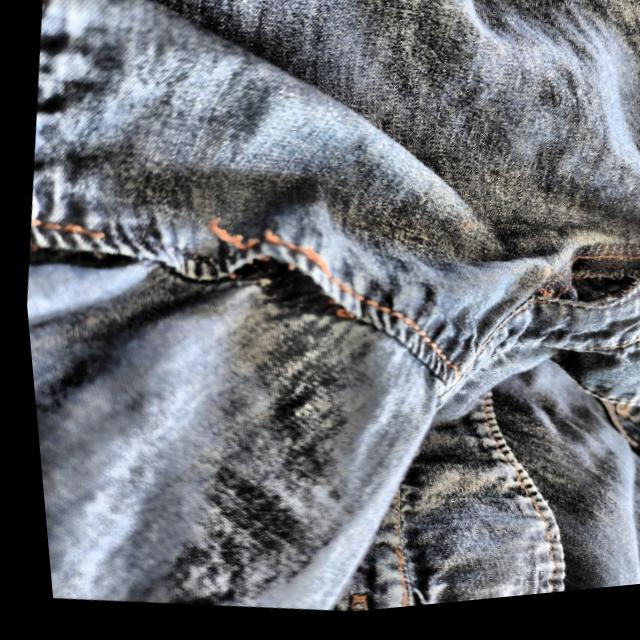seam: (175, 236, 360, 345), (507, 255, 640, 351)
